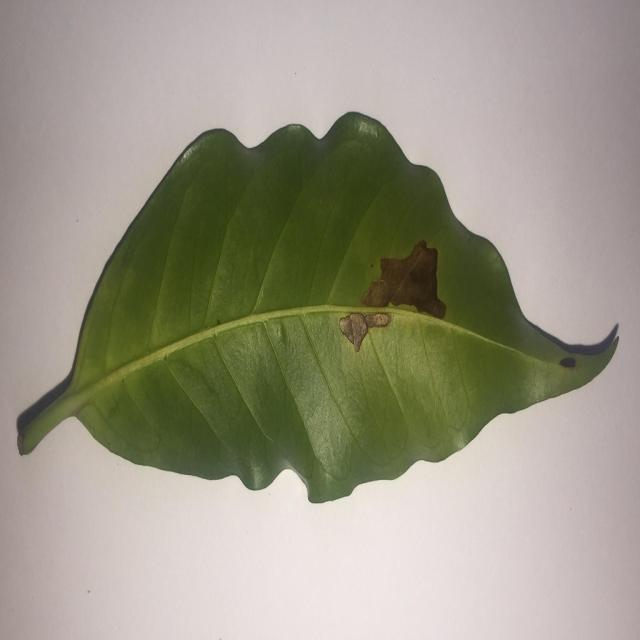Plaga-Minador: (15, 111, 620, 506)
